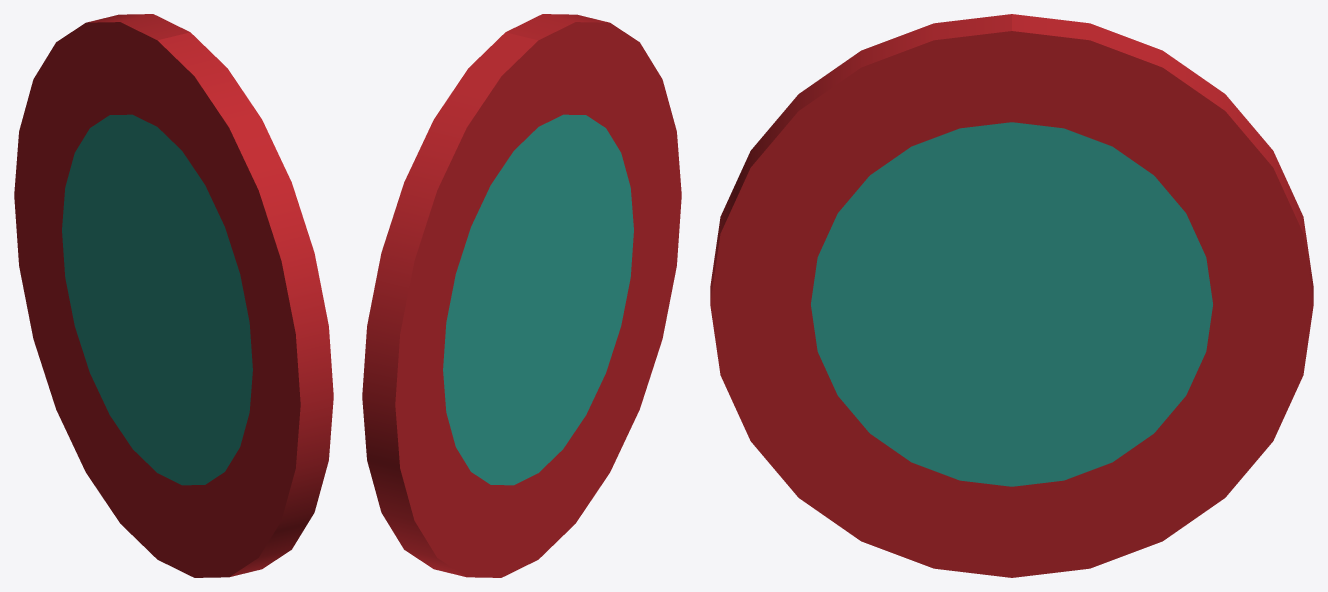
The model's file is laser_alignment_equipment_pressure.glb.
The picture shows the model from 3 angles, left to right: view 1: azimuth 30°, elevation 25°; view 2: azimuth 150°, elevation 25°; view 3: azimuth 270°, elevation 25°; orthographic projection. The views are drawn at different scales.
Visible parts, largest first — view 1: pressure__front, pressure__back; view 2: pressure__back, pressure__front; view 3: pressure__back, pressure__front.
Boxes of the visible parts, left/top/right/bottom form: pressure__front: left=157, top=32, right=333, bottom=577; pressure__back: left=14, top=14, right=189, bottom=558; pressure__back: left=362, top=32, right=538, bottom=577; pressure__front: left=506, top=14, right=681, bottom=558; pressure__back: left=1012, top=14, right=1313, bottom=577; pressure__front: left=710, top=14, right=1011, bottom=577.
Bounding box in the file's own units: 0.004 × 0.06 × 0.06.
